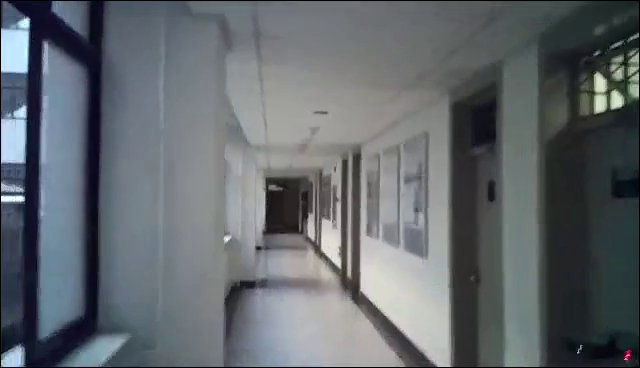drone: (564, 330, 639, 368)
